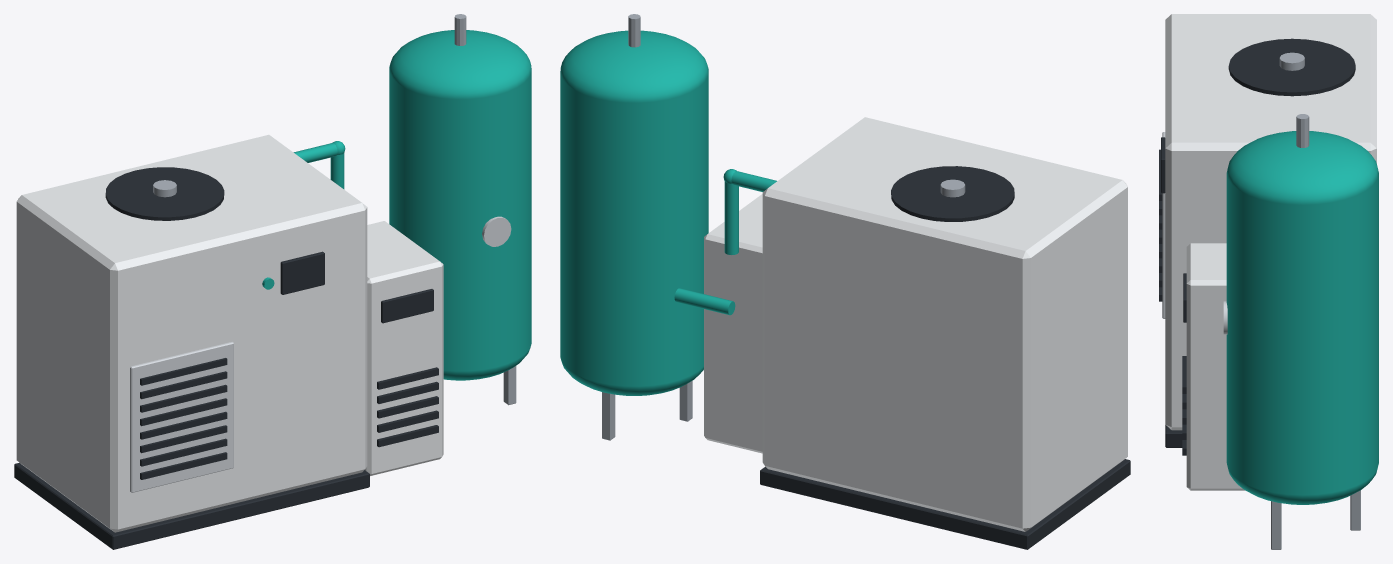
Rendered from air-compressor-skid.glb.
3 views of the same model, side by side, from view 1: azimuth 30°, elevation 25°; view 2: azimuth 150°, elevation 25°; view 3: azimuth 270°, elevation 25° (orthographic). The views are drawn at different scales.
Parts seen in each view (by area): view 1: air-compressor-skid; view 2: air-compressor-skid; view 3: air-compressor-skid.
Boxes of the visible parts, bbox=[...] form: air-compressor-skid: bbox=[14, 14, 531, 549]; air-compressor-skid: bbox=[560, 14, 1130, 549]; air-compressor-skid: bbox=[1159, 14, 1378, 549].
Bounding box in the file's own units: 2.76 × 2.15 × 1.04.
